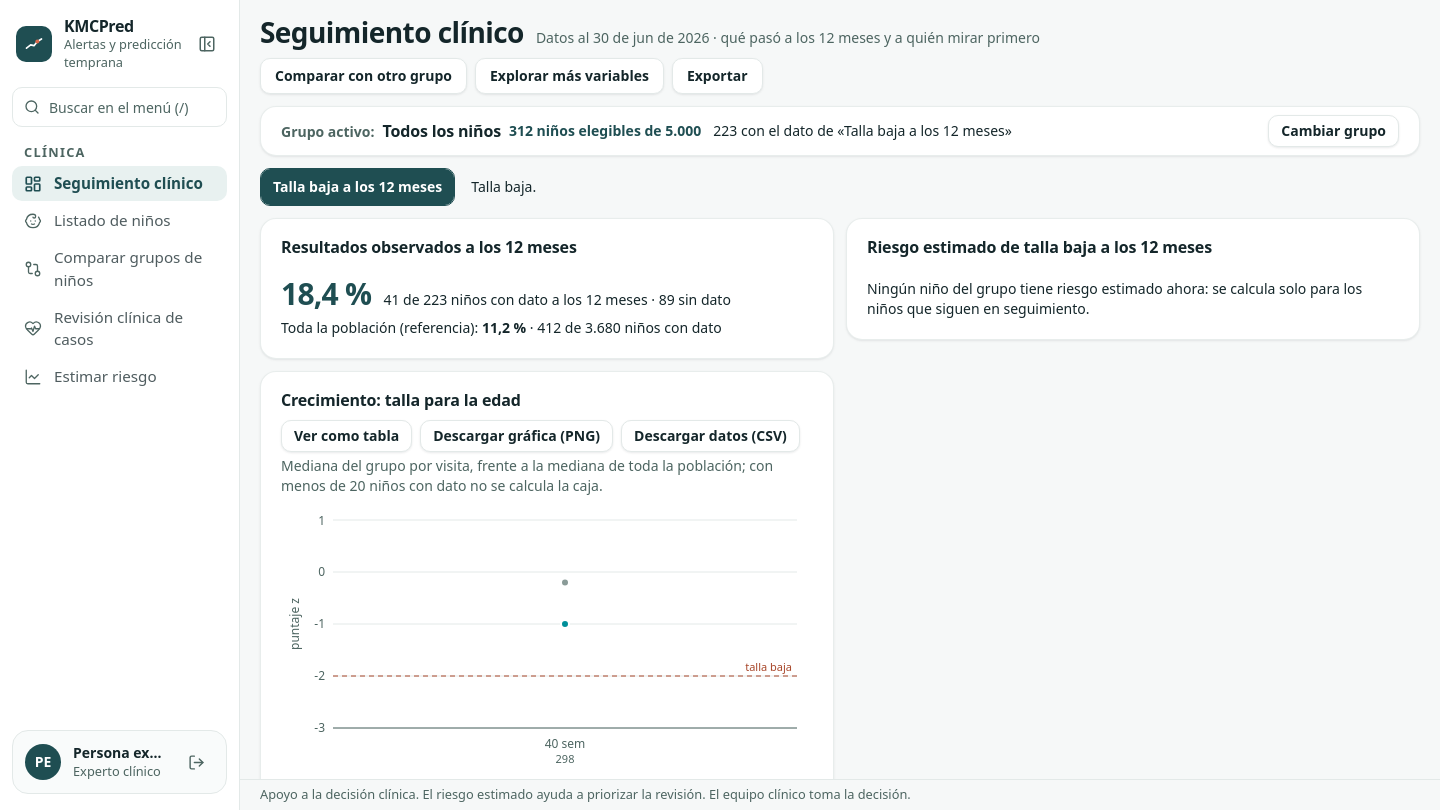
el panel del grupo en la vista clínica es un cajón › el botón de cerrar también lo cierra, y los filtros se aplican al instante sin dejar el cajón
The width and height of the screenshot is (1440, 810).
Click the button "Cambiar grupo" at {"x": 1334, "y": 131}, box [1268,115,1399,147]
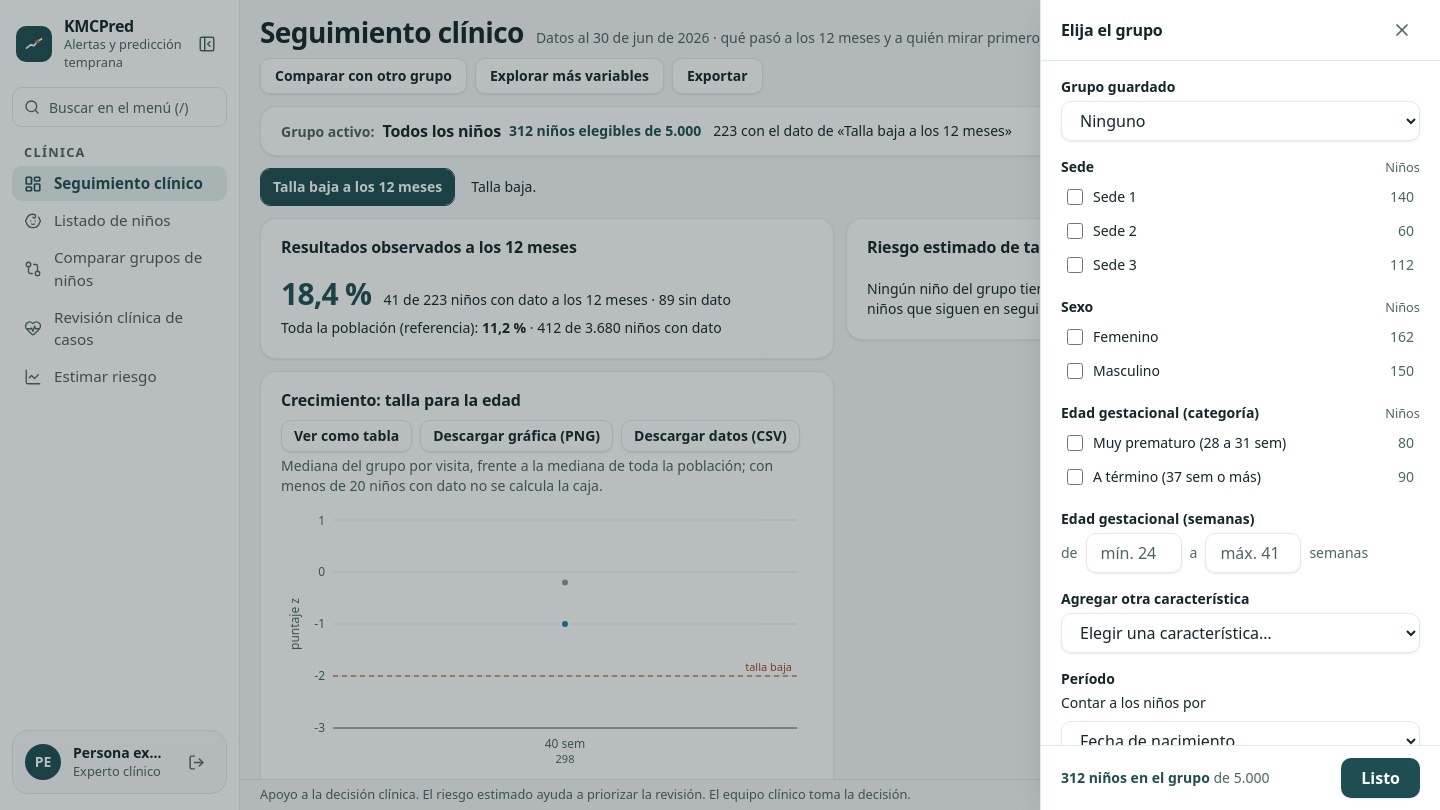
Click the text "Masculino" at {"x": 1126, "y": 370}, box [1093,361,1160,380]
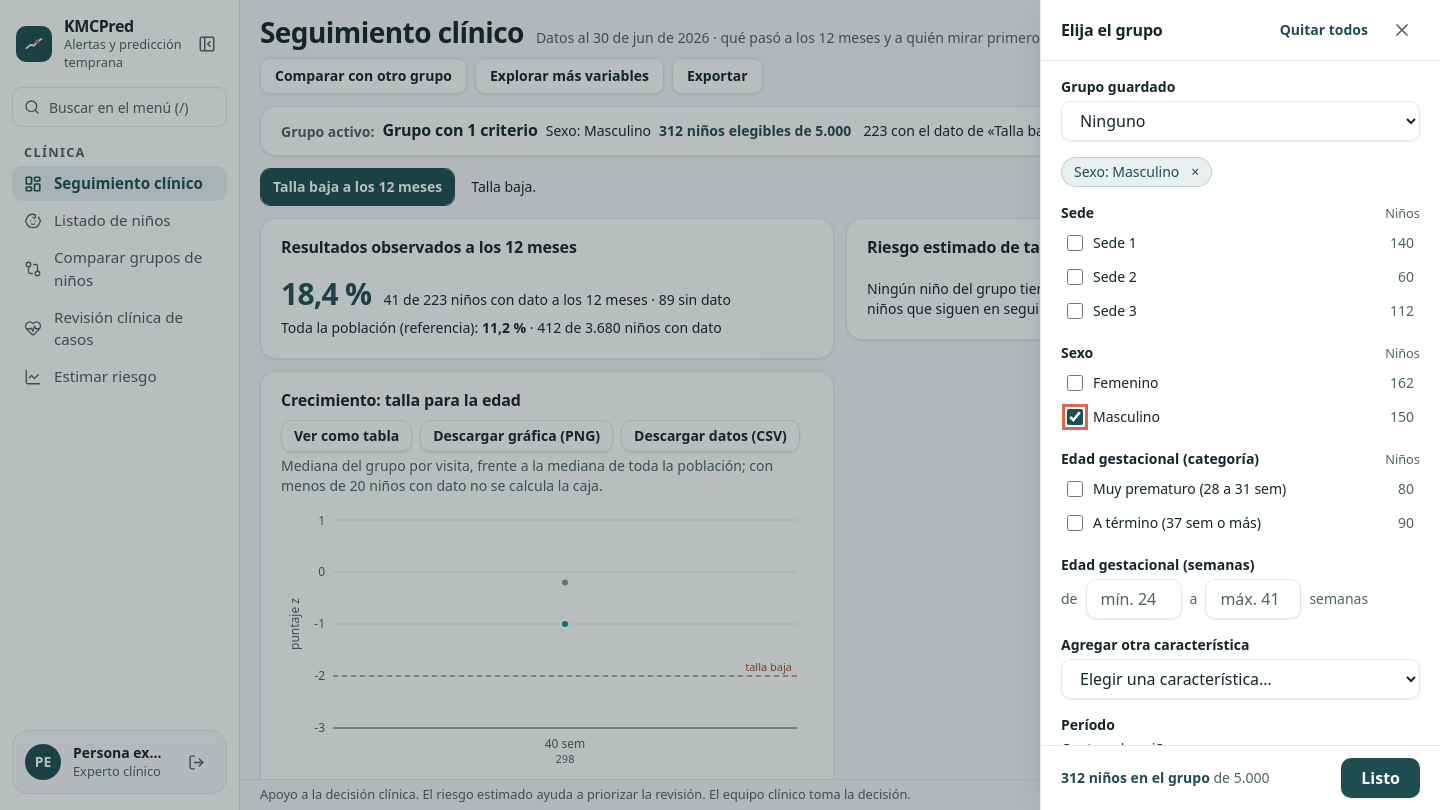
Result: the dialog "Elija el grupo" is shown at [1040,0,1439,809]
Click the button named "Cerrar" at {"x": 1402, "y": 30}, box [1384,12,1420,48]
(page scrolled)
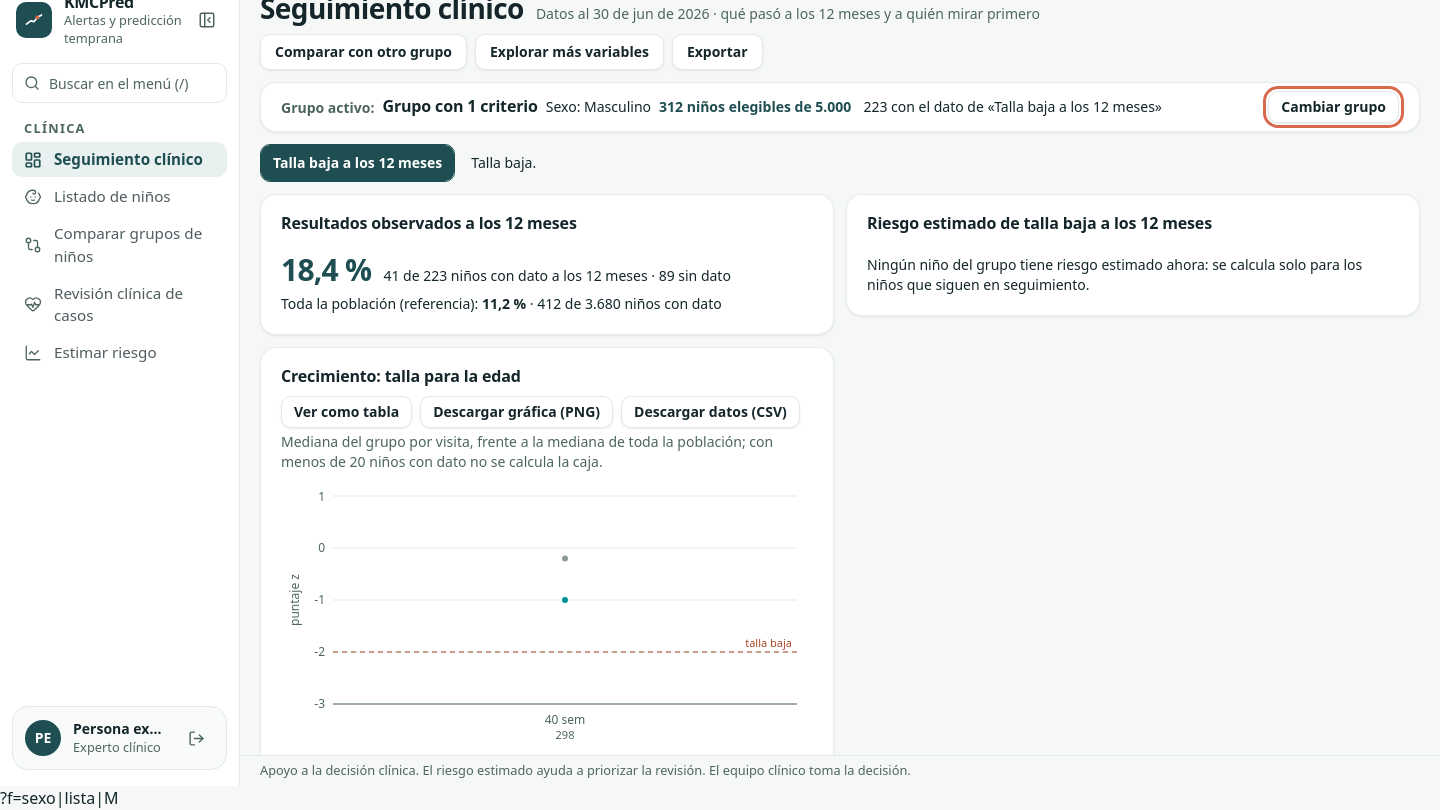
Result: the text with test id "ubicacion" shows "f=sexo|lista|M" at [0,787,119,809]
Result: the heading "Elija el grupo" is gone
